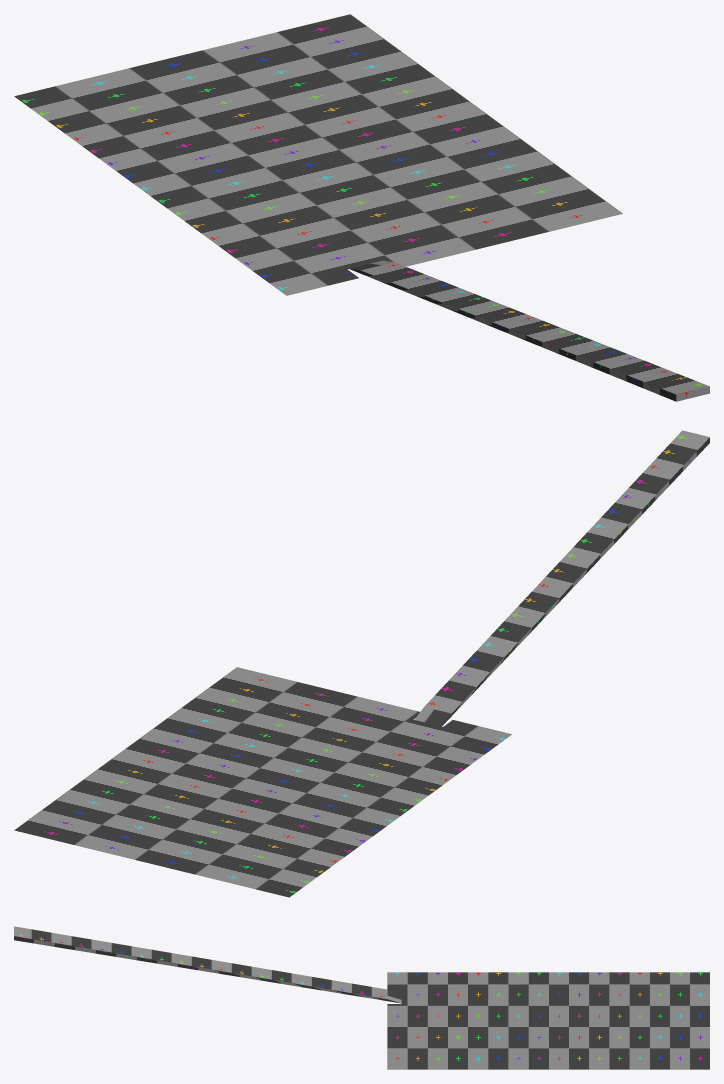
Rendered from meshCollider_prototype_interior_roof_left.fbx.
3 views of the same model, one above another, from view 1: azimuth 30°, elevation 25°; view 2: azimuth 150°, elevation 25°; view 3: azimuth 270°, elevation 25° (orthographic). The views are drawn at different scales.
Parts seen in each view (by area): view 1: collider_roof_left; view 2: collider_roof_left; view 3: collider_roof_left.
Part boxes in pixels (<box>): collider_roof_left: <box>14,14,709,401</box>; collider_roof_left: <box>14,430,709,897</box>; collider_roof_left: <box>14,926,709,1069</box>.
Size of the model in its own units: 1850 by 600 by 5600.
